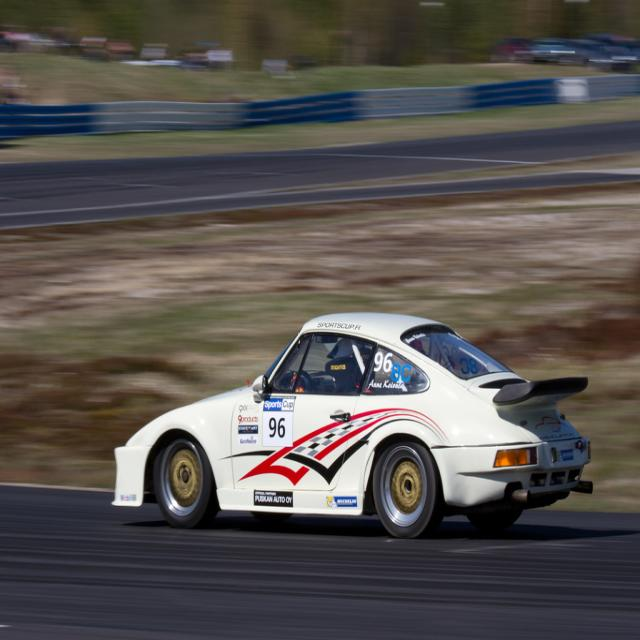car: (97, 313, 613, 537)
